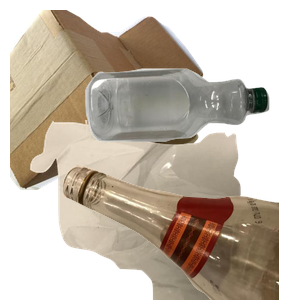cardboard: (10, 10, 206, 190)
glass: (60, 120, 300, 300)
plastic: (83, 66, 300, 201)
trash: (28, 120, 267, 300)
